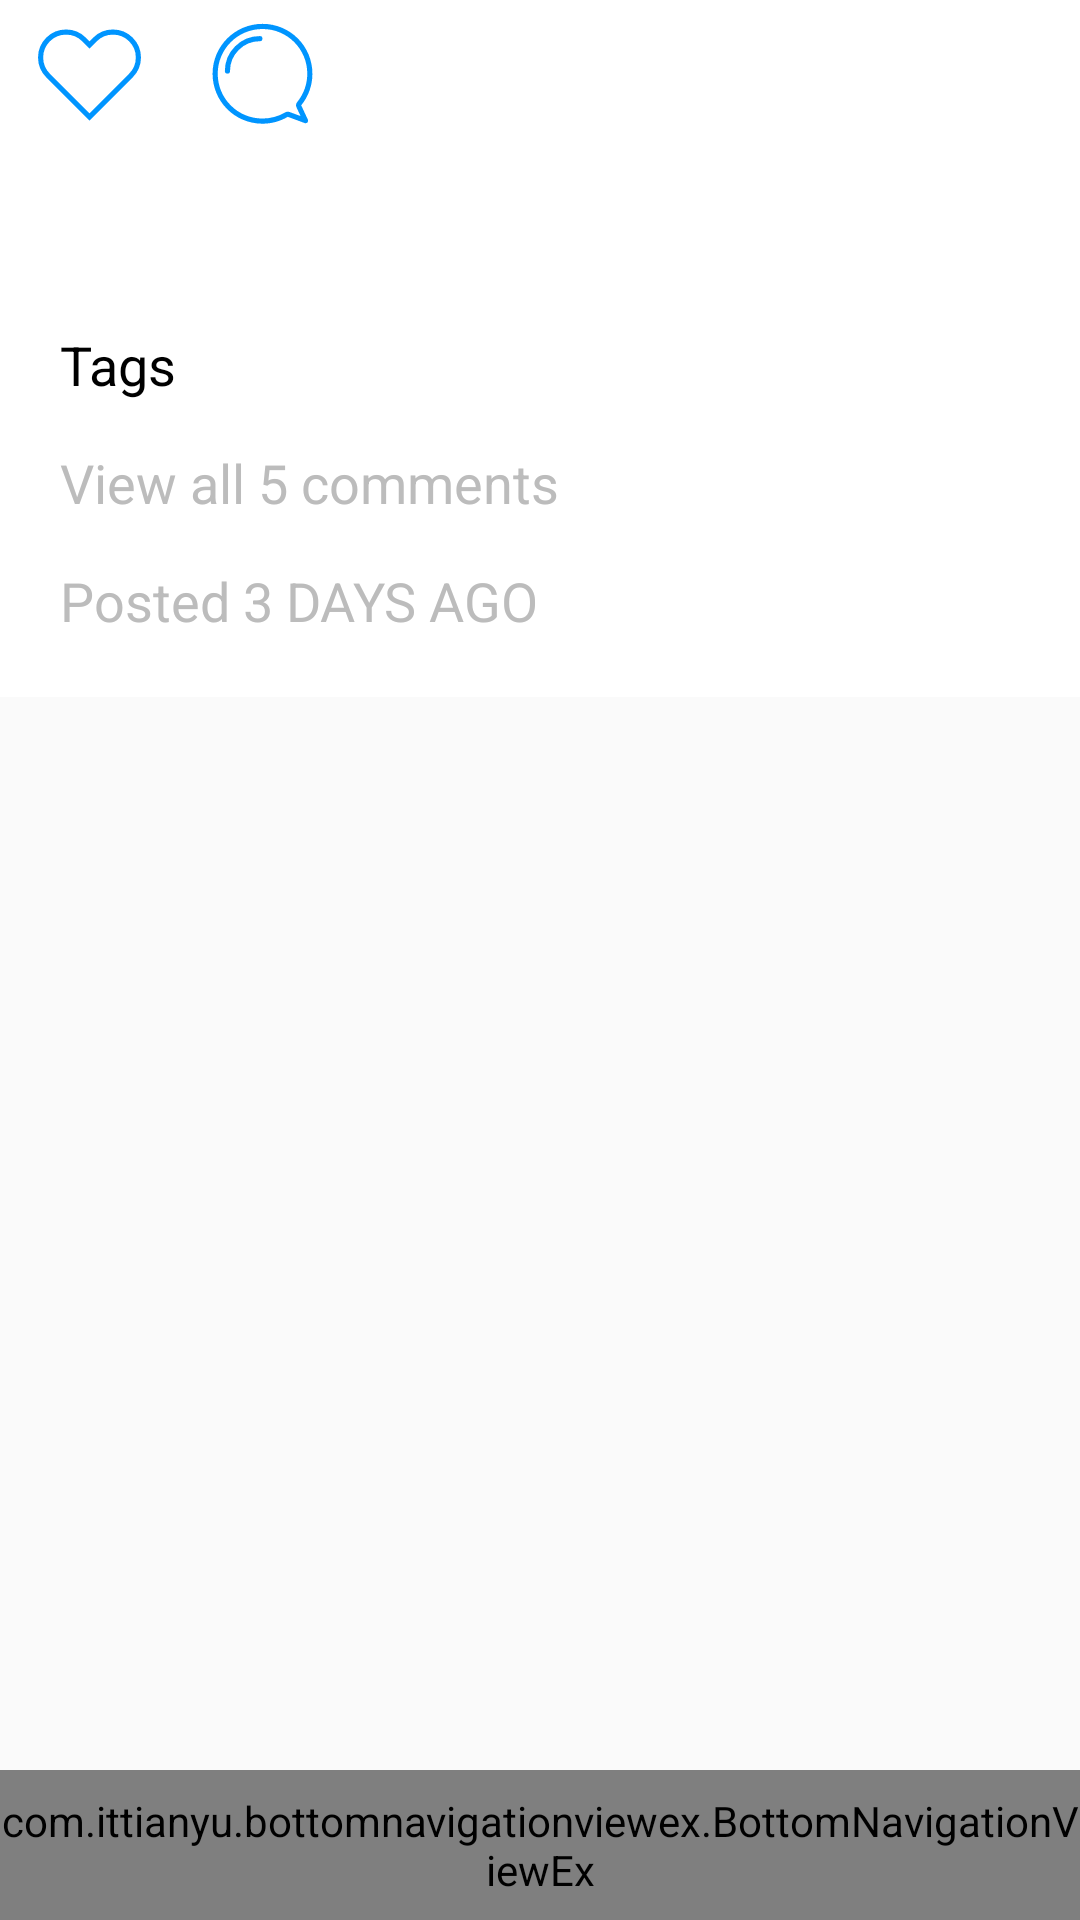

Icon bounding boxes for this 1080×1920 phone screenshot, format (x1, y1, x2, y2):
comment: (212, 23, 313, 124)
heart: (38, 29, 141, 121)
